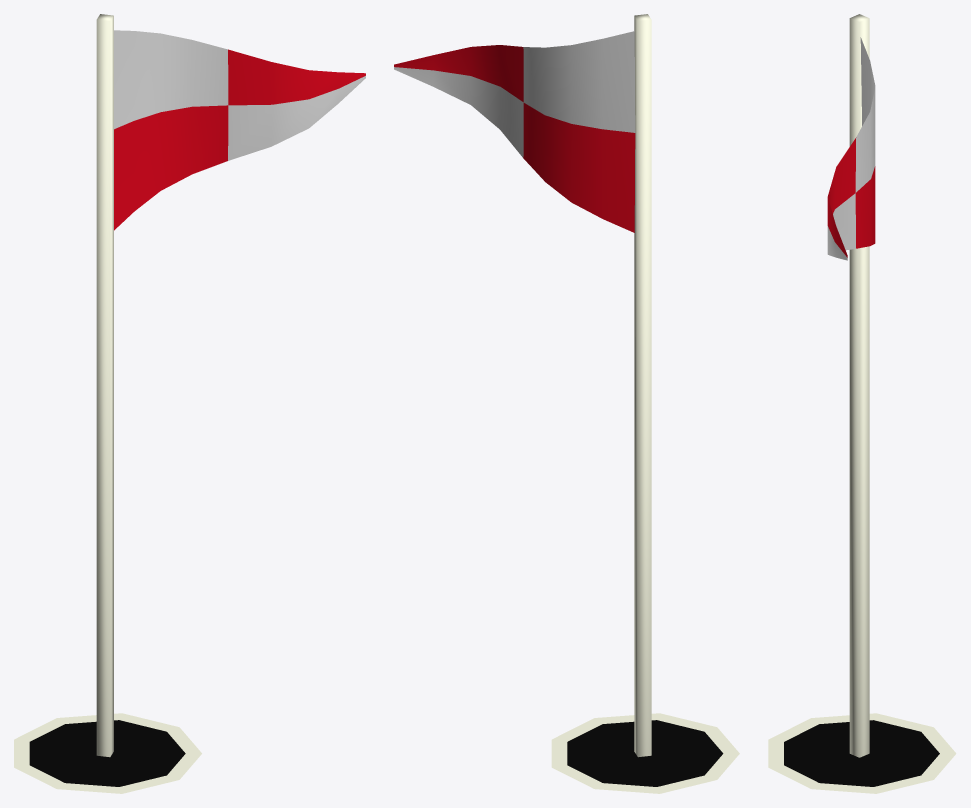
Rendered from Golf Hole.fbx.
The picture shows the model from 3 angles, left to right: view 1: azimuth 30°, elevation 25°; view 2: azimuth 150°, elevation 25°; view 3: azimuth 270°, elevation 25°; orthographic projection.
Visible parts, largest first — view 1: Golf_Hole; view 2: Golf_Hole; view 3: Golf_Hole.
Boxes of the visible parts, left/top/right/bottom form: Golf_Hole: left=14, top=14, right=365, bottom=793; Golf_Hole: left=394, top=14, right=739, bottom=793; Golf_Hole: left=768, top=14, right=956, bottom=793.
Bounding box in the file's own units: 1.09 × 2.3 × 0.5276.
